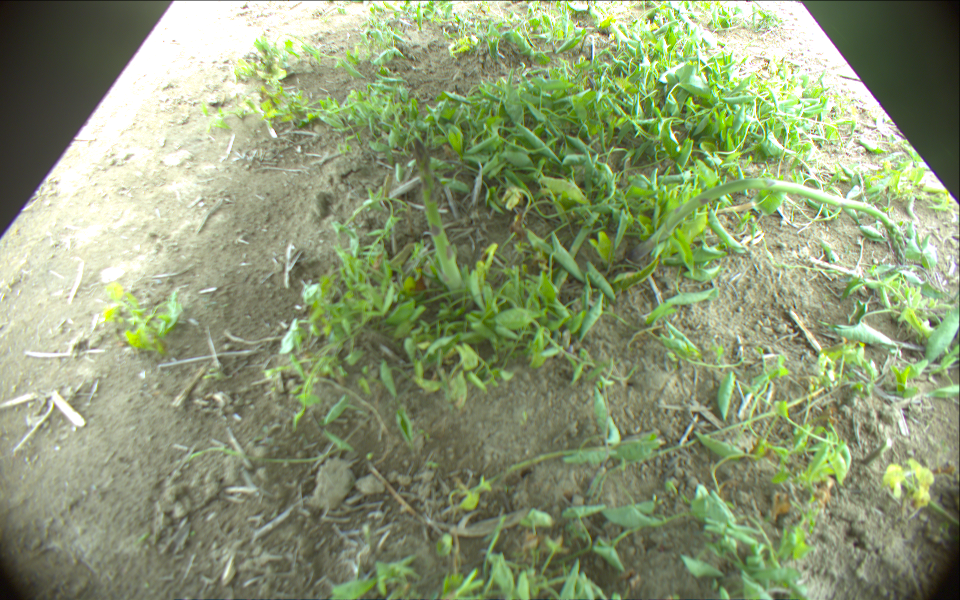aspa: (631, 177, 908, 262), (410, 137, 464, 290)
